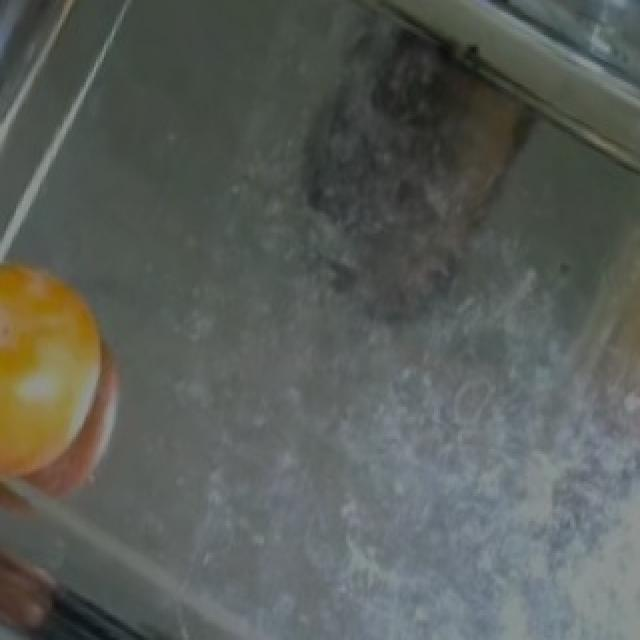Fruit: (0, 241, 136, 538)
